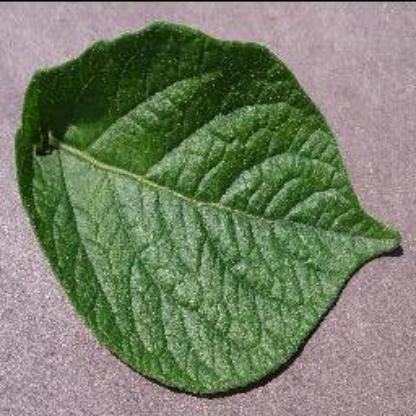Healthy-plant: (15, 20, 403, 400)
